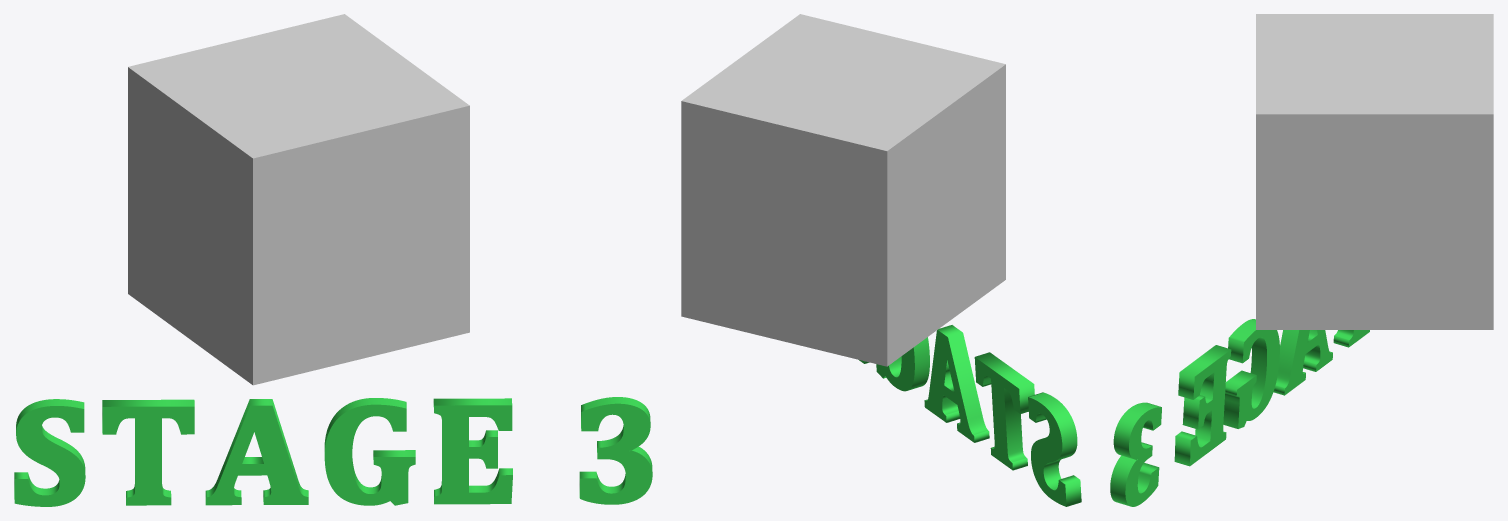
Rendered from Stage3.glb.
3 renders of one model, left to right at view 1: azimuth 30°, elevation 25°; view 2: azimuth 150°, elevation 25°; view 3: azimuth 270°, elevation 25°, orthographic. The views are drawn at different scales.
Visible parts, largest first — view 1: Cube, Text; view 2: Cube, Text; view 3: Cube, Text.
Part boxes in pixels (left/top/right/bottom): Cube: left=128, top=14, right=469, bottom=385; Text: left=14, top=397, right=652, bottom=506; Cube: left=681, top=14, right=1005, bottom=366; Text: left=858, top=325, right=1081, bottom=506; Cube: left=1256, top=14, right=1493, bottom=329; Text: left=1110, top=319, right=1369, bottom=506.
Size of the model in its own units: 4.52 by 3.25 by 3.23.
